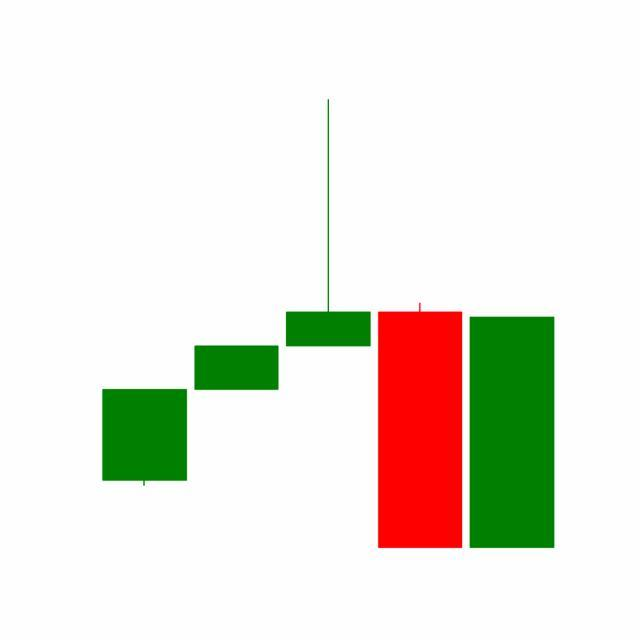Marubozu: (466, 315, 559, 551)
